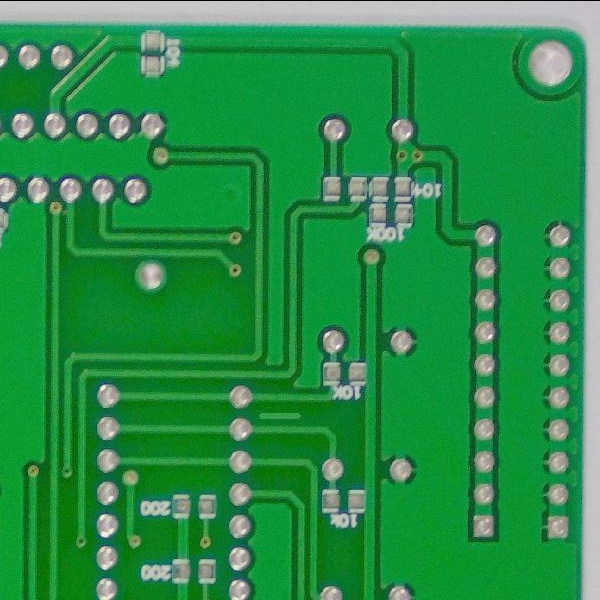spurious_copper: (254, 404, 306, 428)
